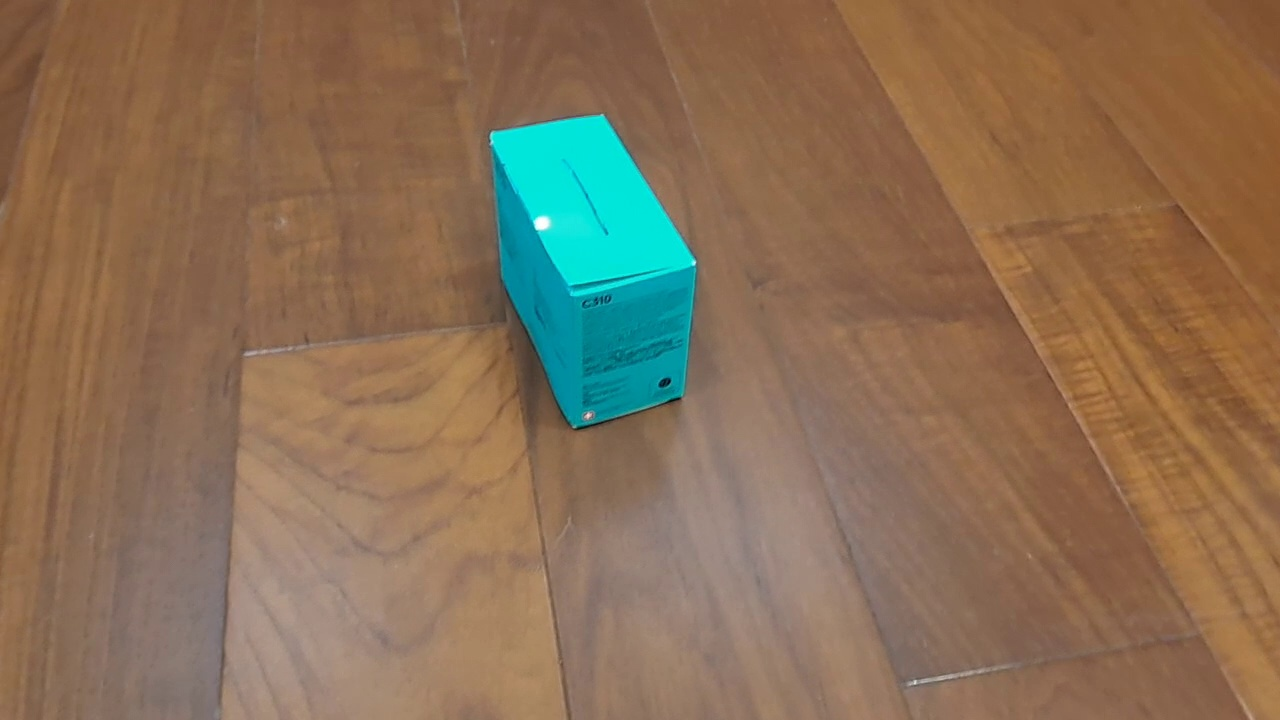webcam: (488, 113, 699, 433)
